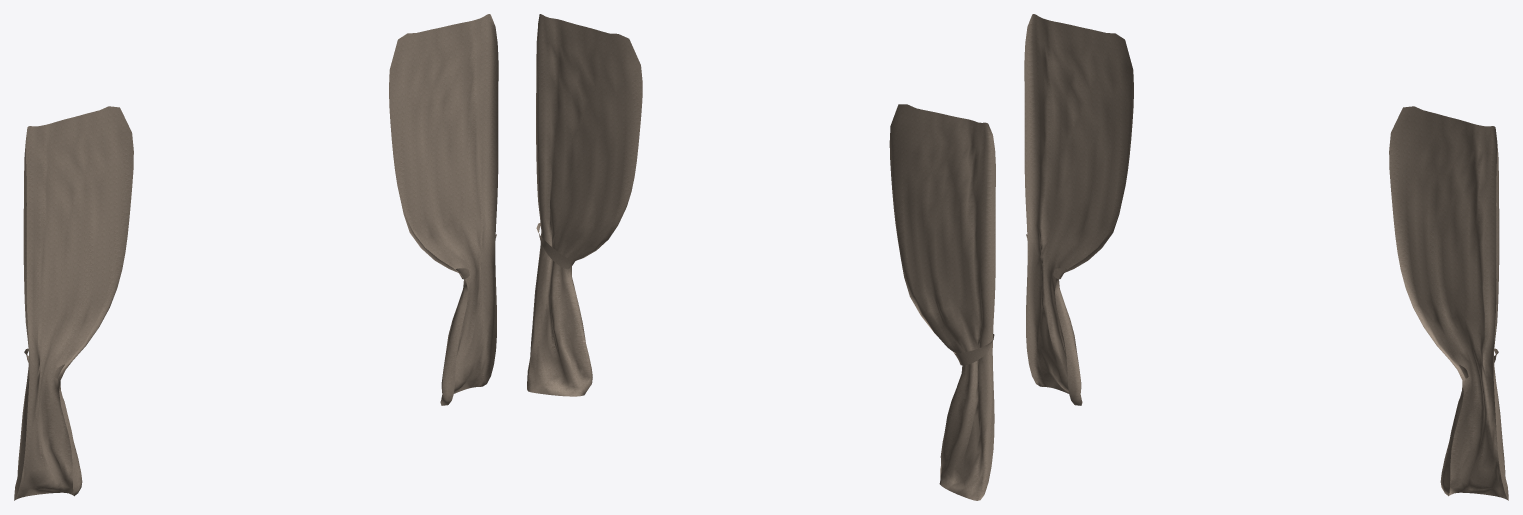
Rendered from KT_chuanglian1.fbx.
3 views of the same model, side by side, from view 1: azimuth 30°, elevation 25°; view 2: azimuth 150°, elevation 25°; view 3: azimuth 330°, elevation 25° (orthographic). The views are drawn at different scales.
Parts seen in each view (by area): view 1: KT_chuanglian1; view 2: KT_chuanglian1; view 3: KT_chuanglian1.
Part boxes in pixels (left/top/right/bottom): KT_chuanglian1: left=14, top=14, right=498, bottom=500; KT_chuanglian1: left=527, top=14, right=995, bottom=500; KT_chuanglian1: left=1024, top=14, right=1508, bottom=500.
Bounding box in the file's own units: 362 × 279 × 22.75.
